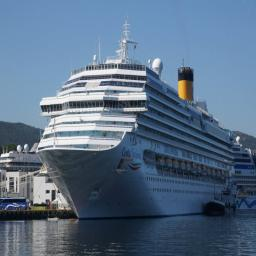cruises: (35, 19, 238, 225)
